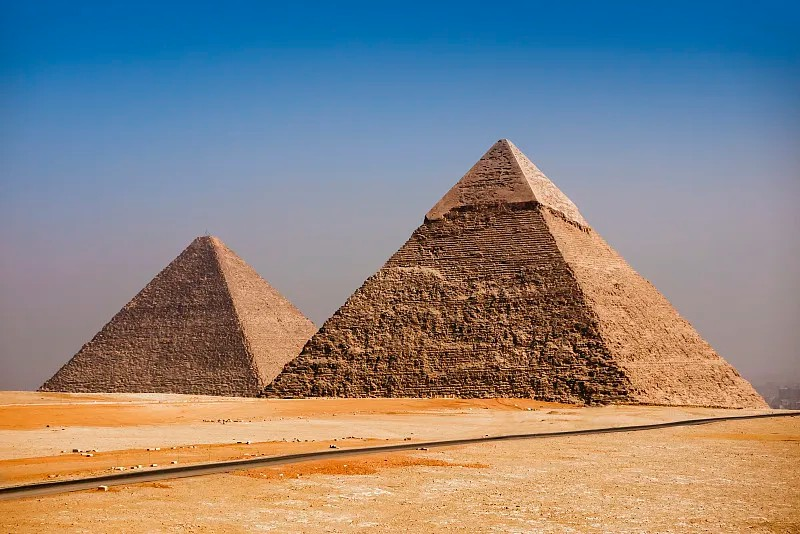Pyramid: (259, 138, 770, 406), (36, 233, 319, 392)
